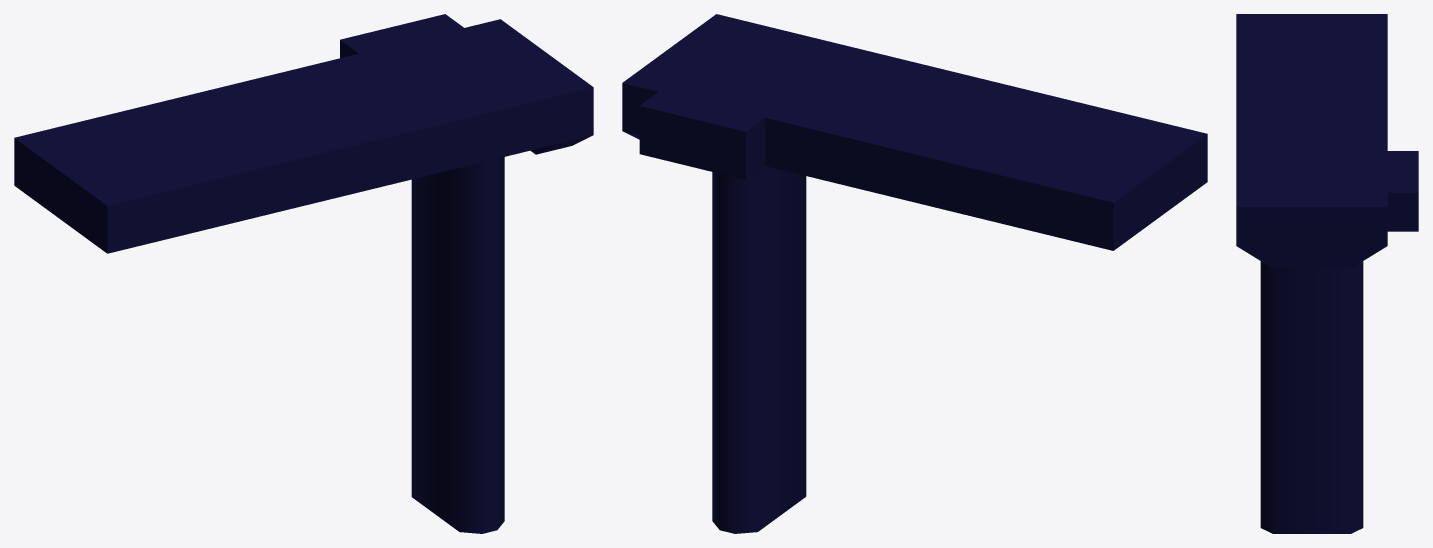
Rendered from Seat_Single_Leg_Flipped.FBX.
3 views of the same model, side by side, from view 1: azimuth 30°, elevation 25°; view 2: azimuth 150°, elevation 25°; view 3: azimuth 270°, elevation 25° (orthographic). The views are drawn at different scales.
Visible parts, largest first — view 1: Seat_Single_Leg_Flipped; view 2: Seat_Single_Leg_Flipped; view 3: Seat_Single_Leg_Flipped.
Boxes of the visible parts, x1=… form: Seat_Single_Leg_Flipped: x1=14, y1=14, x2=593, y2=533; Seat_Single_Leg_Flipped: x1=622, y1=14, x2=1207, y2=533; Seat_Single_Leg_Flipped: x1=1236, y1=14, x2=1418, y2=533.
Size of the model in its own units: 0.3716 by 0.317 by 0.1485.
